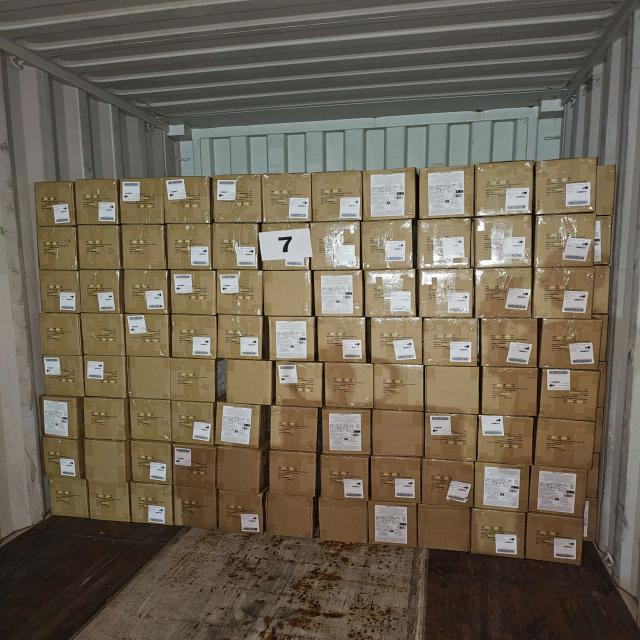Carton: (537, 160, 597, 216), (542, 320, 606, 371), (474, 164, 532, 219), (536, 213, 596, 266), (535, 267, 595, 320), (474, 215, 534, 267), (541, 368, 603, 418), (534, 418, 596, 468), (475, 268, 534, 320), (480, 319, 538, 369), (362, 171, 417, 223), (417, 168, 472, 220), (418, 219, 474, 270), (526, 516, 584, 565), (478, 414, 534, 464), (482, 365, 538, 415), (418, 270, 473, 320), (426, 366, 481, 416), (529, 467, 586, 515), (475, 464, 530, 513), (470, 510, 526, 558), (423, 320, 479, 368), (422, 460, 474, 510), (362, 270, 417, 317), (312, 171, 363, 221), (369, 319, 423, 366), (362, 222, 414, 270), (424, 414, 477, 461), (373, 409, 426, 456), (216, 358, 272, 402), (264, 175, 313, 225), (261, 222, 312, 270), (416, 508, 469, 554), (312, 222, 362, 270), (269, 405, 319, 452), (314, 270, 364, 317), (262, 270, 313, 316), (320, 456, 371, 502), (375, 362, 426, 408), (319, 318, 370, 364), (319, 499, 372, 543), (214, 175, 263, 222), (326, 360, 376, 406), (163, 175, 210, 223), (213, 224, 260, 272), (323, 408, 372, 454), (369, 458, 418, 504), (165, 224, 212, 271), (275, 359, 322, 405), (369, 503, 417, 548), (269, 453, 317, 498), (268, 318, 317, 362), (121, 224, 167, 270), (120, 177, 165, 224), (215, 404, 262, 449), (265, 496, 313, 540), (169, 270, 215, 315), (216, 271, 263, 315), (217, 316, 264, 360), (122, 270, 168, 314), (170, 316, 216, 360), (169, 359, 215, 403), (75, 180, 119, 226), (216, 450, 261, 494), (77, 226, 121, 270), (175, 446, 219, 490), (216, 490, 261, 533), (78, 269, 121, 314), (84, 440, 129, 483), (124, 314, 170, 356), (82, 398, 126, 441), (84, 354, 127, 397), (170, 402, 213, 445), (80, 314, 123, 357), (174, 486, 218, 528), (128, 356, 172, 398), (129, 484, 172, 526), (40, 270, 81, 314), (46, 478, 90, 519), (130, 398, 171, 442), (40, 313, 82, 355), (130, 441, 171, 484), (43, 396, 84, 439), (40, 224, 79, 269), (43, 354, 85, 395), (37, 182, 77, 225), (87, 482, 128, 521), (44, 436, 82, 478), (591, 212, 611, 264), (590, 265, 608, 315)
